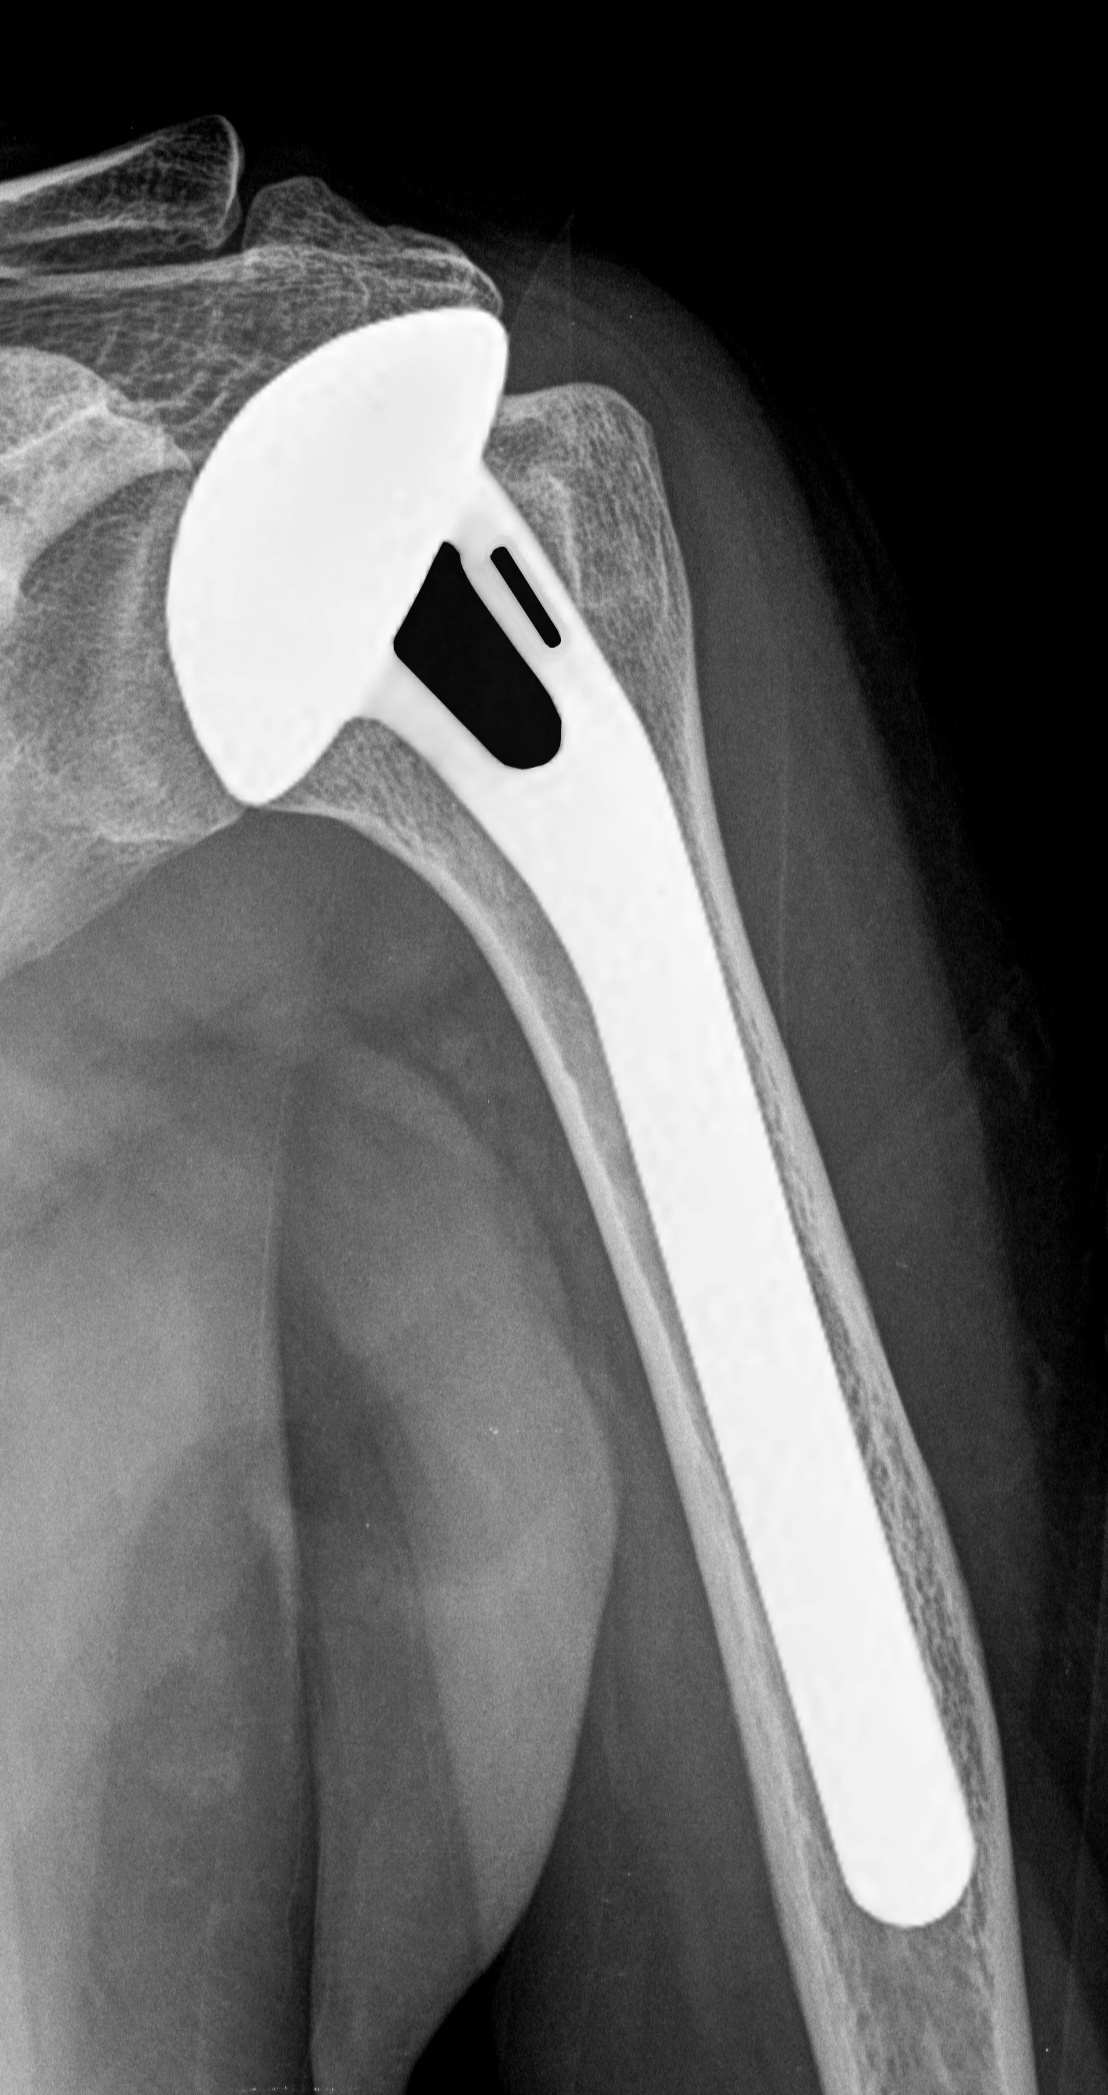Shoulder - AequalisFracture - Tornier: (127, 301, 656, 820)
